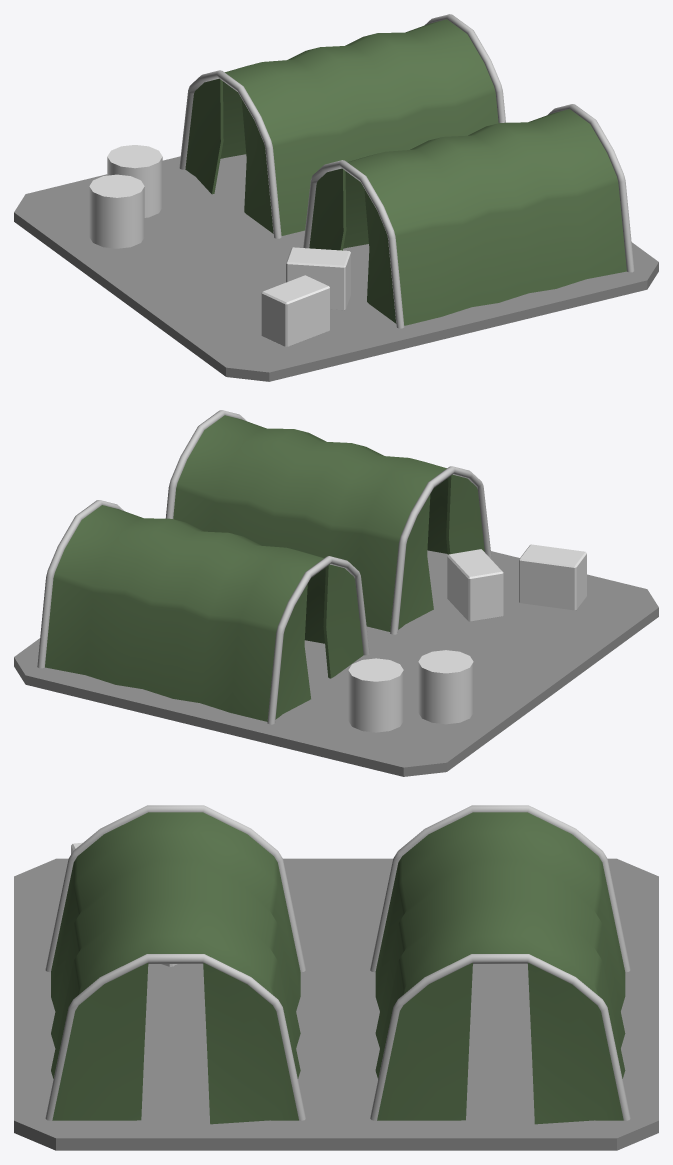
Rendered from Barracks.fbx.
The picture shows the model from 3 angles, top to bottom: view 1: azimuth 30°, elevation 25°; view 2: azimuth 150°, elevation 25°; view 3: azimuth 270°, elevation 25°; orthographic projection. The views are drawn at different scales.
Parts seen in each view (by area): view 1: Cube_2_2, Cube_5_2, Cube_5, Cube, Cube_2, Cube_8, Cylinder_1, Cube_9, Cylinder, Sweep, Sweep_4, Sweep_1_4 (+1 smaller); view 2: Cube_5, Cube_2_2, Cube_5_2, Cube, Cube_2, Cube_8, Cylinder, Cylinder_1, Cube_9, Sweep, Sweep_4, Sweep_1 (+1 smaller); view 3: Cube_2_2, Cube_5, Cube_5_2, Cube, Cube_2, Sweep_1_4, Sweep_1, Sweep_4, Sweep.
Boxes of the visible parts, <box> form: Cube_2_2: <box>14,154,658,381</box>; Cube_5_2: <box>343,109,626,325</box>; Cube_5: <box>220,19,498,235</box>; Cube: <box>185,78,273,233</box>; Cube_2: <box>309,168,396,323</box>; Cube_8: <box>261,275,329,346</box>; Cylinder_1: <box>89,174,144,248</box>; Cube_9: <box>286,247,350,310</box>; Cylinder: <box>107,145,162,217</box>; Sweep: <box>179,70,281,238</box>; Sweep_4: <box>303,160,404,328</box>; Sweep_1_4: <box>548,104,634,272</box>; Cube_5: <box>45,505,325,721</box>; Cube_2_2: <box>14,550,658,776</box>; Cube_5_2: <box>173,415,448,631</box>; Cube: <box>275,564,363,719</box>; Cube_2: <box>398,474,484,629</box>; Cube_8: <box>519,544,586,610</box>; Cylinder: <box>348,658,403,732</box>; Cylinder_1: <box>418,650,473,724</box>; Cube_9: <box>447,549,503,621</box>; Sweep: <box>267,556,369,724</box>; Sweep_4: <box>390,466,491,634</box>; Sweep_1: <box>37,500,123,668</box>; Cube_2_2: <box>14,858,658,1150</box>; Cube_5: <box>375,812,625,1079</box>; Cube_5_2: <box>51,812,300,1078</box>; Cube: <box>377,963,623,1124</box>; Cube_2: <box>52,963,298,1124</box>; Sweep_1_4: <box>45,954,305,1120</box>; Sweep_1: <box>370,954,630,1120</box>; Sweep_4: <box>45,805,305,972</box>; Sweep: <box>370,805,630,972</box>.
Size of the model in its own units: 618 by 184 by 603.
